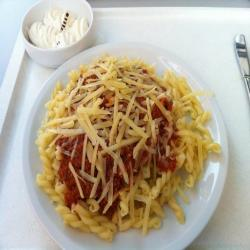bolonese_pasta: (37, 60, 224, 238)
